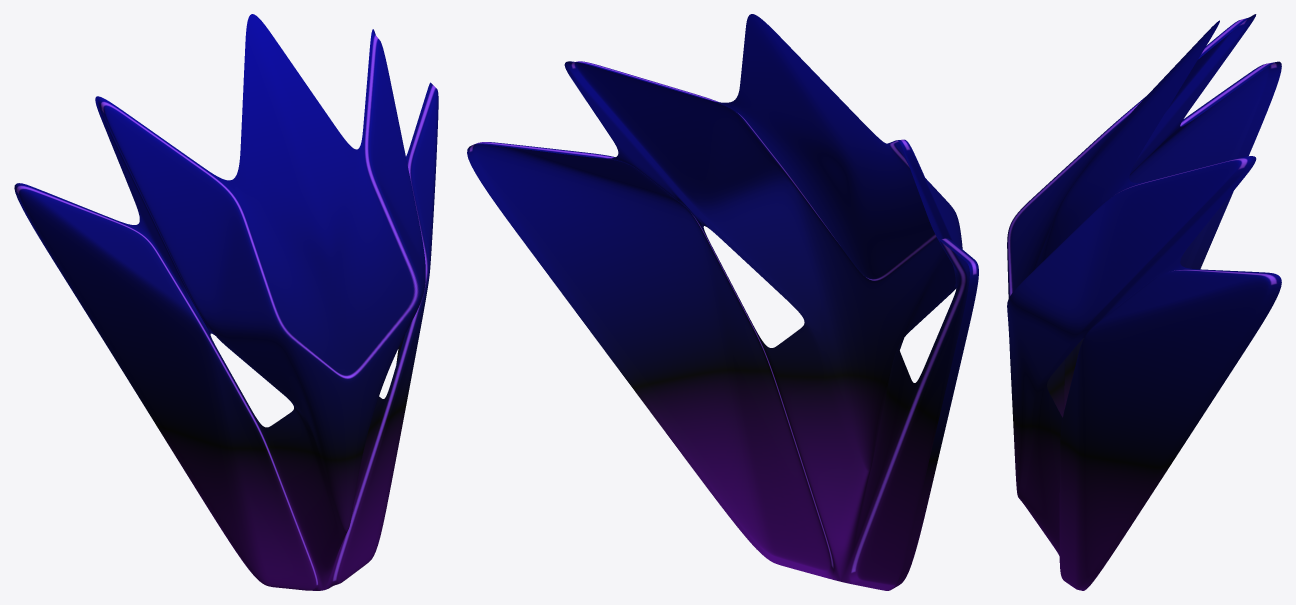
The model's file is fpv2.glb.
3 views of the same model, side by side, from view 1: azimuth 30°, elevation 25°; view 2: azimuth 150°, elevation 25°; view 3: azimuth 270°, elevation 25° (orthographic). The views are drawn at different scales.
Visible parts, largest first — view 1: DronPro_Mask; view 2: DronPro_Mask; view 3: DronPro_Mask.
Boxes of the visible parts, <box> form: DronPro_Mask: <box>14,14,438,590</box>; DronPro_Mask: <box>467,14,978,590</box>; DronPro_Mask: <box>1007,14,1281,590</box>.
Size of the model in its own units: 1.76 by 2.11 by 0.9437.
1 material, 1 textured.
